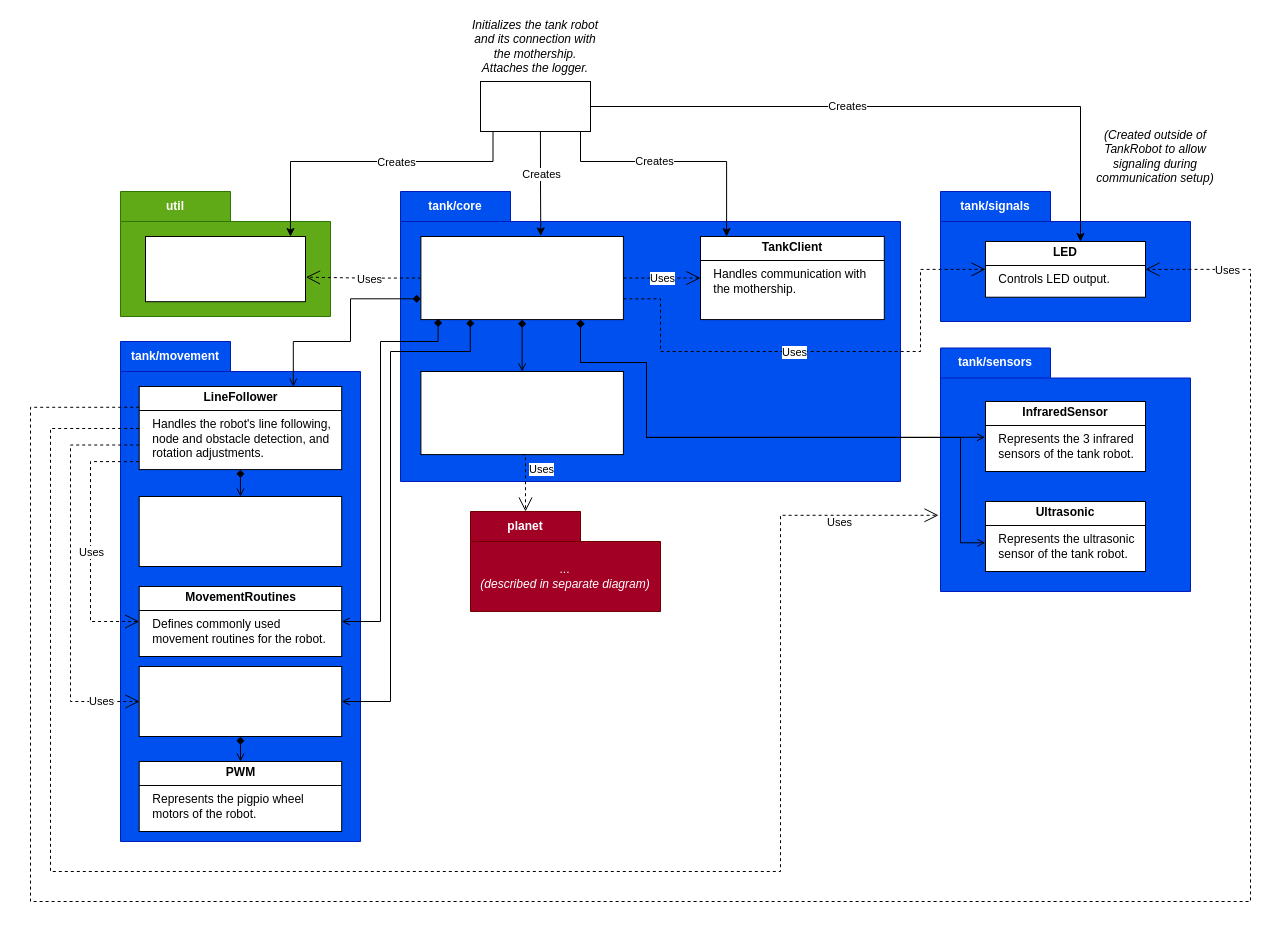
This 1282x933 diagram has some shape labels left out. The centre of each missing label's shape, as x and y in pixels:
"CalibratedMotor Controls the robot's PWM using calibrated values." belongs at (240,701).
"Explorer Implements the robot's exploration state and algorithms." belongs at (521,412).
"init_tank.py" belongs at (535,106).
"Logger Manages runtime logging." belongs at (225,269).
"PController Maps sensor input to a wheel speed correction." belongs at (240,531).
"TankRobot Core class of the tank robot. Connects submodules together." belongs at (521,278).
